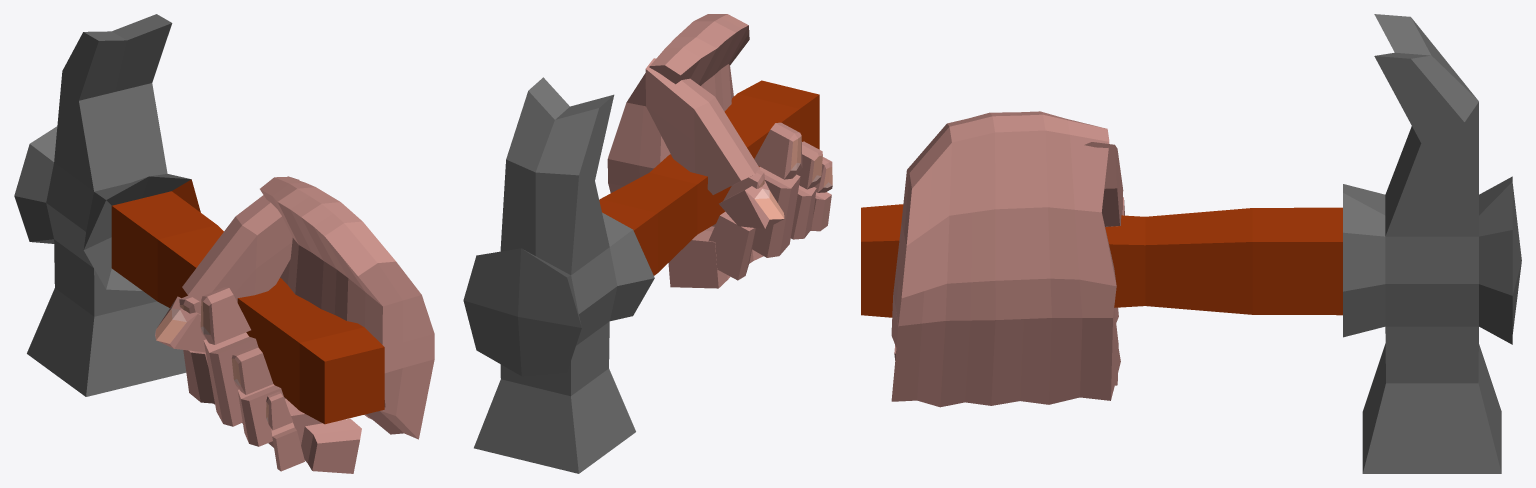
The model's file is GGJ2020_R_Hand.fbx.
The picture shows the model from 3 angles, left to right: view 1: azimuth 30°, elevation 25°; view 2: azimuth 150°, elevation 25°; view 3: azimuth 270°, elevation 25°; orthographic projection. The views are drawn at different scales.
Visible parts, largest first — view 1: Hammer, R.Hand; view 2: Hammer, R.Hand; view 3: Hammer, R.Hand.
Boxes of the visible parts, x1,y1,x2,y2 form: Hammer: (14,14,384,424); R.Hand: (155,176,434,473); Hammer: (463,77,819,473); R.Hand: (607,14,832,288); Hammer: (861,14,1521,473); R.Hand: (891,111,1124,407).
Size of the model in its own units: 232 by 399 by 586.
